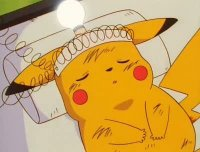pikachu: (9, 15, 199, 152)
